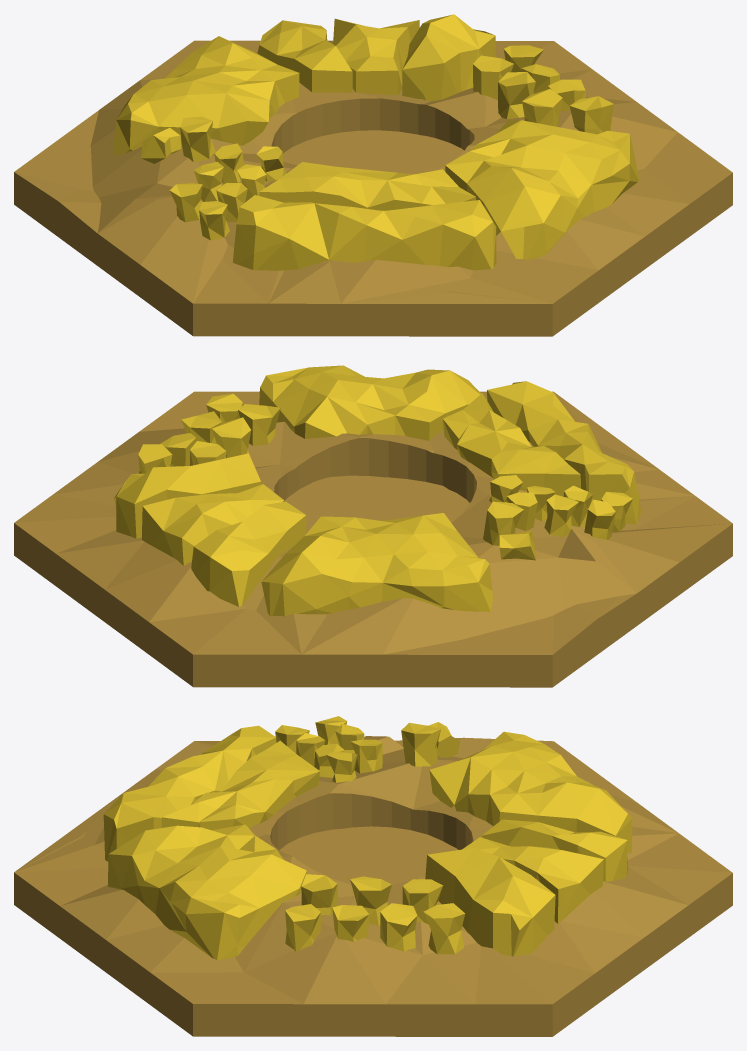
Rendered from wheat.fbx.
The picture shows the model from 3 angles, top to bottom: view 1: azimuth 30°, elevation 25°; view 2: azimuth 150°, elevation 25°; view 3: azimuth 270°, elevation 25°; orthographic projection.
Visible parts, largest first — view 1: Cylinder.218; view 2: Cylinder.218; view 3: Cylinder.218.
Boxes of the visible parts, bbox=[...] form: Cylinder.218: bbox=[14, 14, 732, 336]; Cylinder.218: bbox=[14, 365, 732, 687]; Cylinder.218: bbox=[14, 716, 732, 1036].
Size of the model in its own units: 173 by 33.07 by 200.
